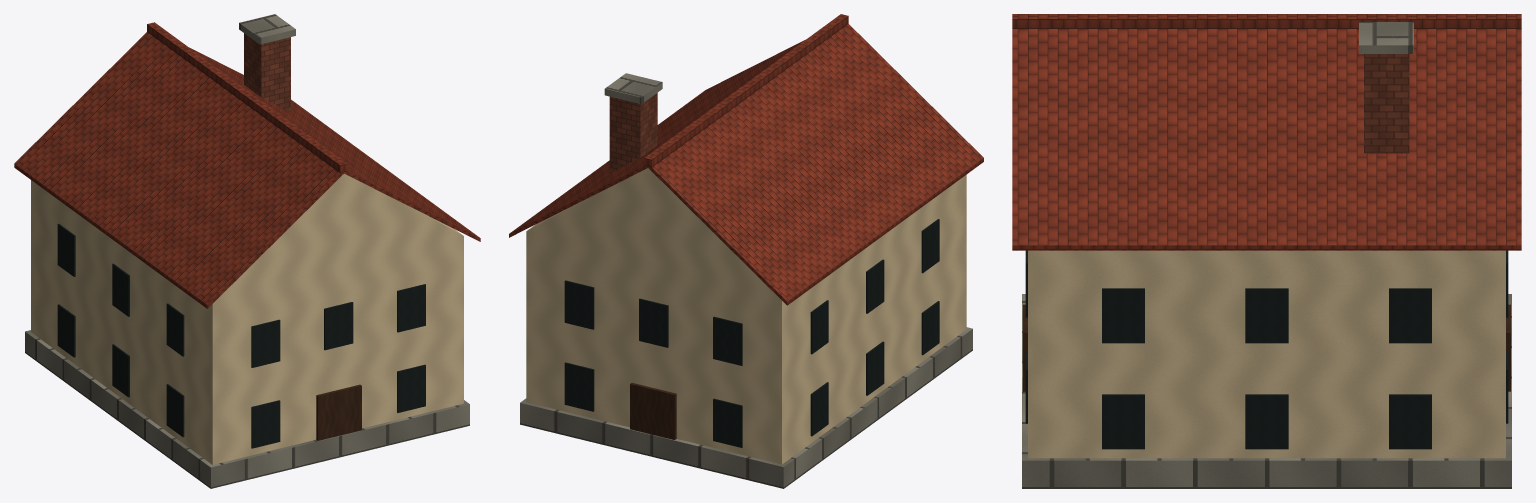
Rendered from SG_House_E_Cottage_LOD2.fbx.
3 renders of one model, left to right at view 1: azimuth 30°, elevation 25°; view 2: azimuth 150°, elevation 25°; view 3: azimuth 270°, elevation 25°, orthographic. The views are drawn at different scales.
Visible parts, largest first — view 1: SG_House_E_Cottage_Detail2; view 2: SG_House_E_Cottage_Detail2; view 3: SG_House_E_Cottage_Detail2.
Part boxes in pixels (<box>): SG_House_E_Cottage_Detail2: <box>14,14,480,488</box>; SG_House_E_Cottage_Detail2: <box>509,14,983,488</box>; SG_House_E_Cottage_Detail2: <box>1012,14,1521,488</box>.
Size of the model in its own units: 17.4 by 19.1 by 21.3.
